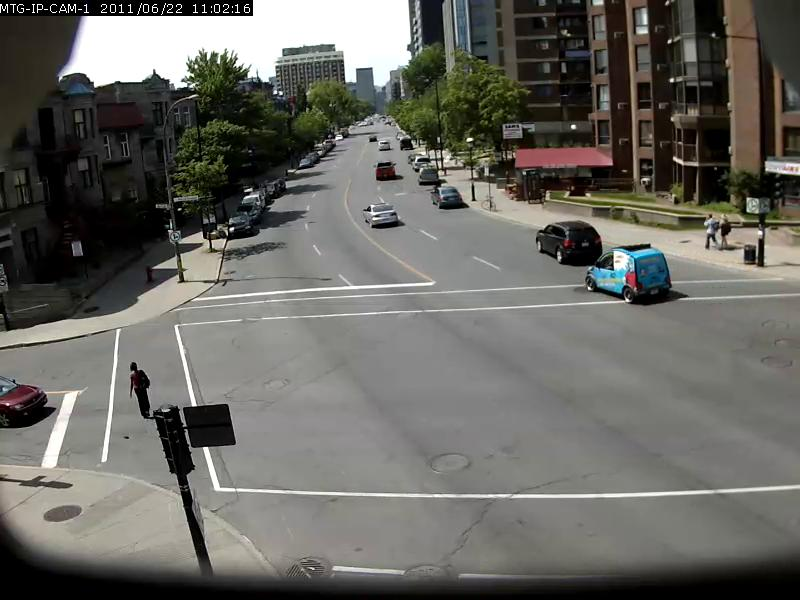car: (586, 243, 673, 304), (535, 220, 602, 265), (363, 202, 398, 229)
